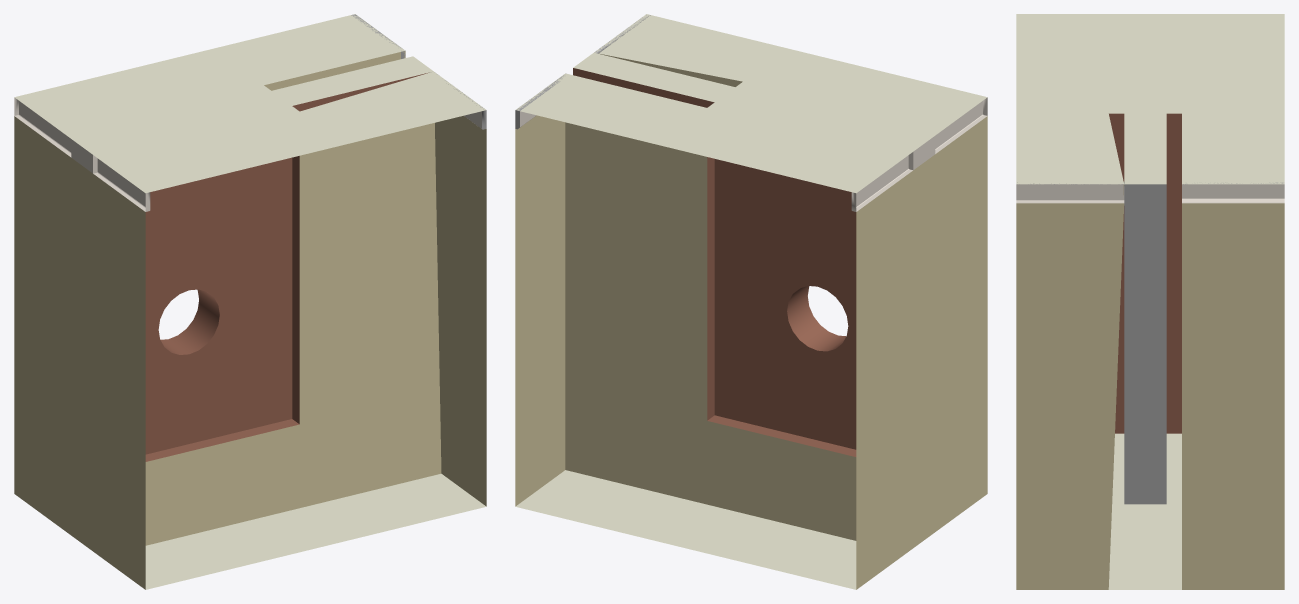
Rendered from Door (Untextured.fbx.
3 views of the same model, side by side, from view 1: azimuth 30°, elevation 25°; view 2: azimuth 150°, elevation 25°; view 3: azimuth 270°, elevation 25° (orthographic). The views are drawn at different scales.
Visible parts, largest first — view 1: DoorFrame, door; view 2: DoorFrame, door; view 3: DoorFrame.
Boxes of the visible parts, bbox=[...] form: DoorFrame: bbox=[14, 14, 486, 589]; door: bbox=[145, 157, 292, 454]; DoorFrame: bbox=[515, 14, 987, 589]; door: bbox=[714, 159, 856, 449]; DoorFrame: bbox=[1016, 14, 1284, 589].
Size of the model in its own units: 338 by 375 by 225.
